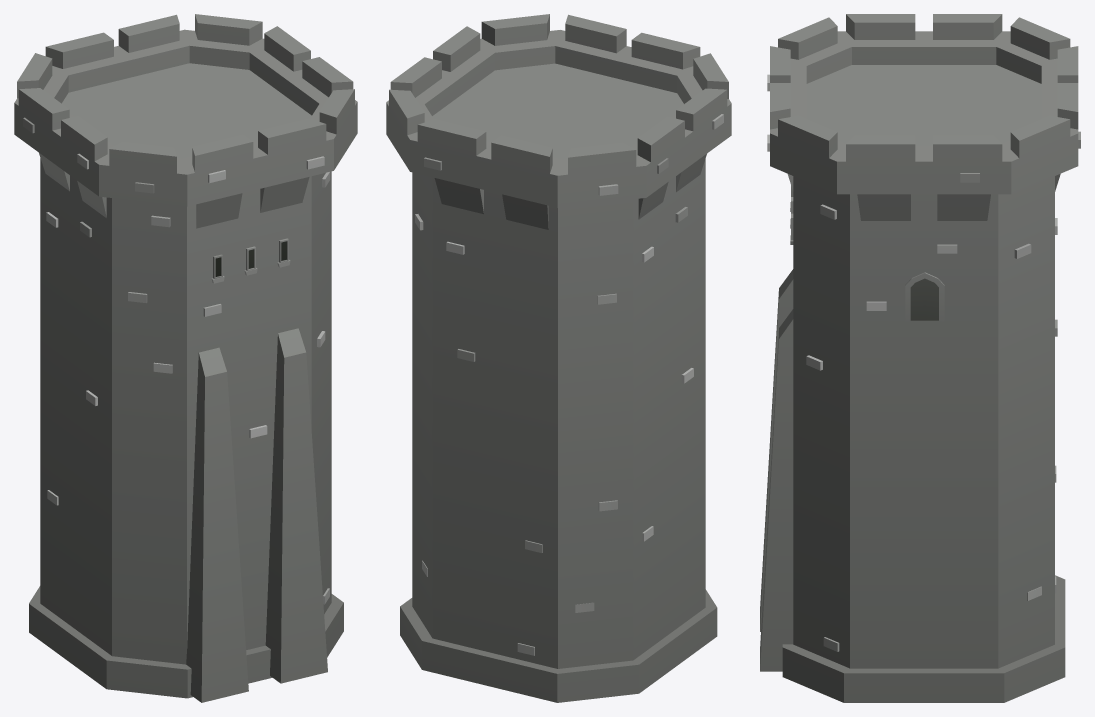
3 views of the same model, side by side, from view 1: azimuth 30°, elevation 25°; view 2: azimuth 150°, elevation 25°; view 3: azimuth 270°, elevation 25° (orthographic). The views are drawn at different scales.
Visible parts, largest first — view 1: Tower3_0; view 2: Tower3_0; view 3: Tower3_0.
Boxes of the visible parts, x1=… form: Tower3_0: x1=14, y1=14, x2=357, y2=702; Tower3_0: x1=386, y1=14, x2=731, y2=702; Tower3_0: x1=760, y1=14, x2=1080, y2=702.
Bounding box in the file's own units: 15.96 × 31.74 × 16.37.
Materials: 1 (1 with a texture image).
